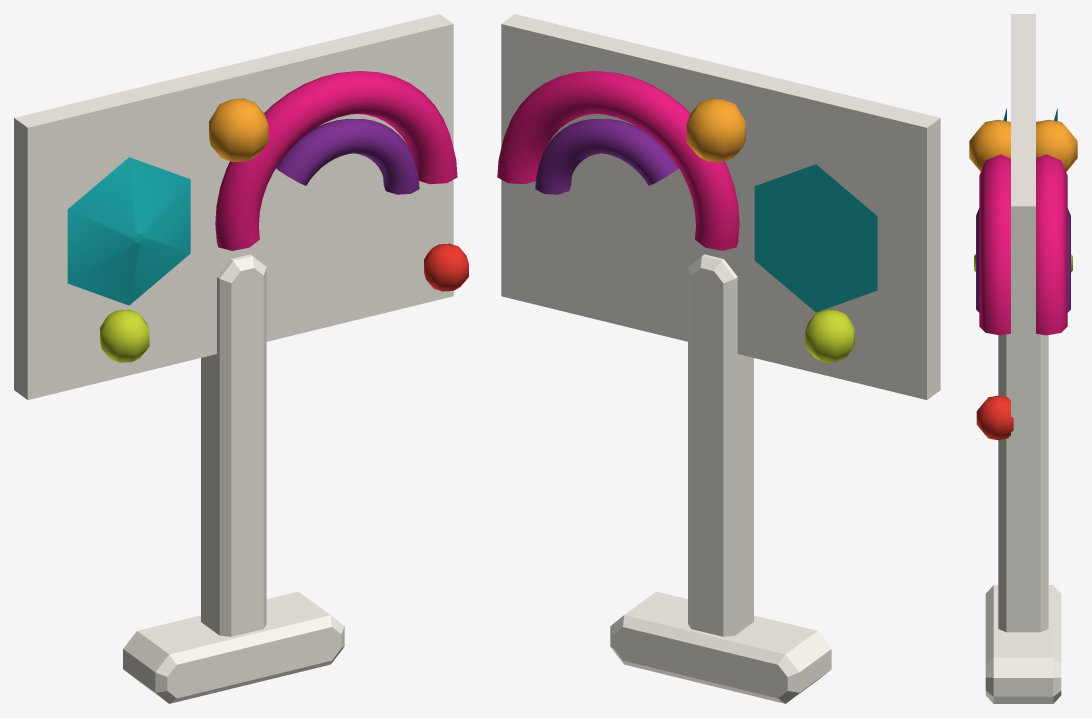
The model's file is funscapes-sign.glb.
3 renders of one model, left to right at view 1: azimuth 30°, elevation 25°; view 2: azimuth 150°, elevation 25°; view 3: azimuth 270°, elevation 25°, orthographic. The views are drawn at different scales.
Visible parts, largest first — view 1: sign_board, sign_post, sign_mark_arc, sign_base, sign_mark_star, sign_mark_arc_purple, sign_mark_dot_orange, sign_mark_dot_lime, sign_mark_dot_red; view 2: sign_board, sign_post, sign_mark_arc_back, sign_base, sign_mark_star_back, sign_mark_arc_purple_back, sign_mark_dot_orange_back, sign_mark_dot_lime_back; view 3: sign_post, sign_board, sign_base, sign_mark_arc, sign_mark_arc_back, sign_mark_dot_orange, sign_mark_dot_orange_back, sign_mark_dot_red, sign_mark_arc_purple, sign_mark_arc_purple_back.
Part boxes in pixels (<box>): sign_board: <box>14,14,453,399</box>; sign_post: <box>201,254,266,636</box>; sign_mark_arc: <box>215,71,457,250</box>; sign_base: <box>123,591,344,703</box>; sign_mark_star: <box>67,157,190,305</box>; sign_mark_arc_purple: <box>276,119,419,194</box>; sign_mark_dot_orange: <box>209,98,268,161</box>; sign_mark_dot_lime: <box>100,309,149,362</box>; sign_mark_dot_red: <box>424,243,468,291</box>; sign_board: <box>501,14,940,399</box>; sign_post: <box>688,254,753,636</box>; sign_mark_arc_back: <box>497,71,739,250</box>; sign_base: <box>610,591,831,703</box>; sign_mark_star_back: <box>754,164,877,312</box>; sign_mark_arc_purple_back: <box>535,119,678,194</box>; sign_mark_dot_orange_back: <box>686,98,745,161</box>; sign_mark_dot_lime_back: <box>805,309,854,362</box>; sign_post: <box>998,333,1048,632</box>; sign_board: <box>1011,14,1035,458</box>; sign_base: <box>985,585,1061,703</box>; sign_mark_arc: <box>979,154,1010,335</box>; sign_mark_arc_back: <box>1036,154,1067,335</box>; sign_mark_dot_orange: <box>969,119,1010,171</box>; sign_mark_dot_orange_back: <box>1036,119,1077,171</box>; sign_mark_dot_red: <box>976,395,1013,440</box>; sign_mark_arc_purple: <box>976,208,979,312</box>; sign_mark_arc_purple_back: <box>1067,208,1070,312</box>.
Bounding box in the file's own units: 9.13 × 12.15 × 2.14.
